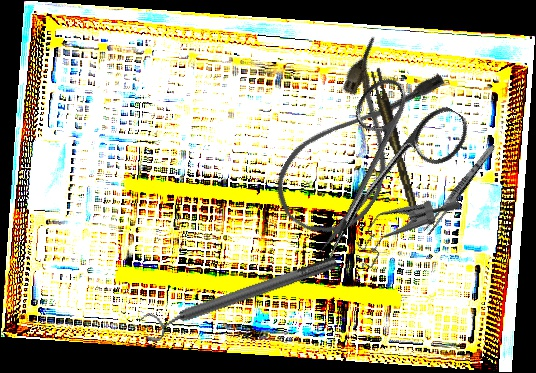Cannula: (260, 30, 452, 254)
Dressing Forceps: (422, 142, 498, 237)
Fixation Ring: (138, 247, 342, 346)
Iris Scissors: (280, 65, 476, 286)
Speculum: (345, 166, 463, 295)
Tissue Forceps: (369, 66, 418, 212)
